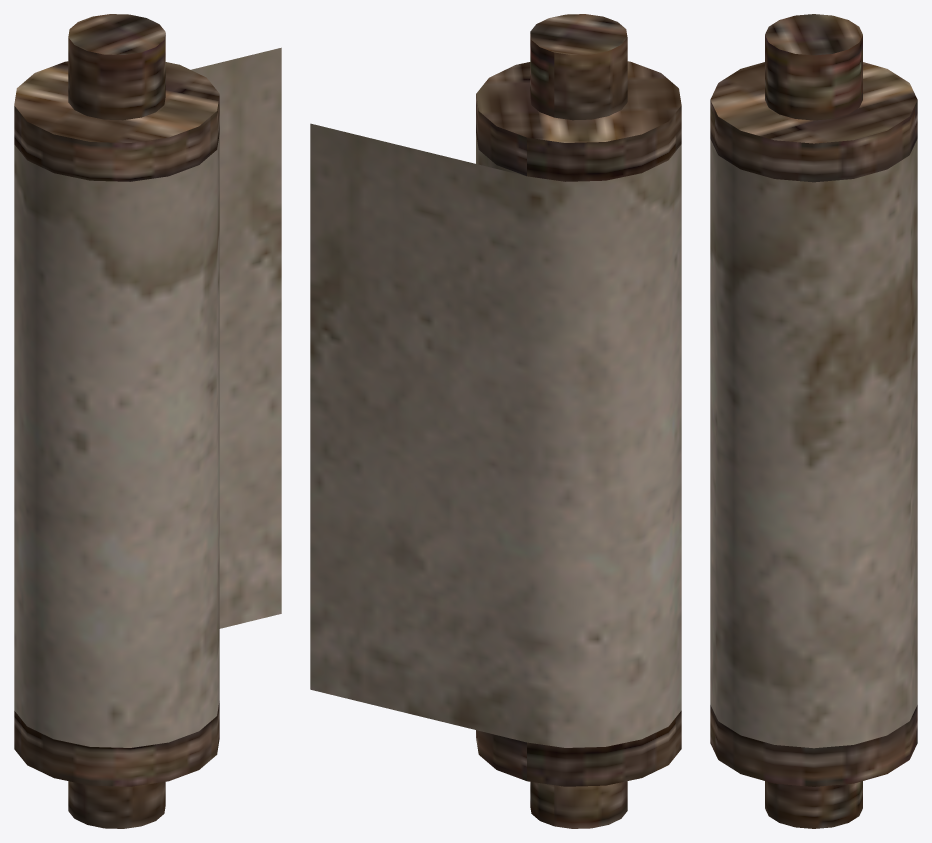
Rendered from scroll.fbx.
3 views of the same model, side by side, from view 1: azimuth 30°, elevation 25°; view 2: azimuth 150°, elevation 25°; view 3: azimuth 270°, elevation 25° (orthographic).
Visible parts, largest first — view 1: Scroll; view 2: Scroll; view 3: Scroll.
Boxes of the visible parts, <box> form: Scroll: <box>14,14,281,828</box>; Scroll: <box>310,14,681,828</box>; Scroll: <box>710,14,917,828</box>.
Size of the model in its own units: 0.132 by 0.3184 by 0.0773.
